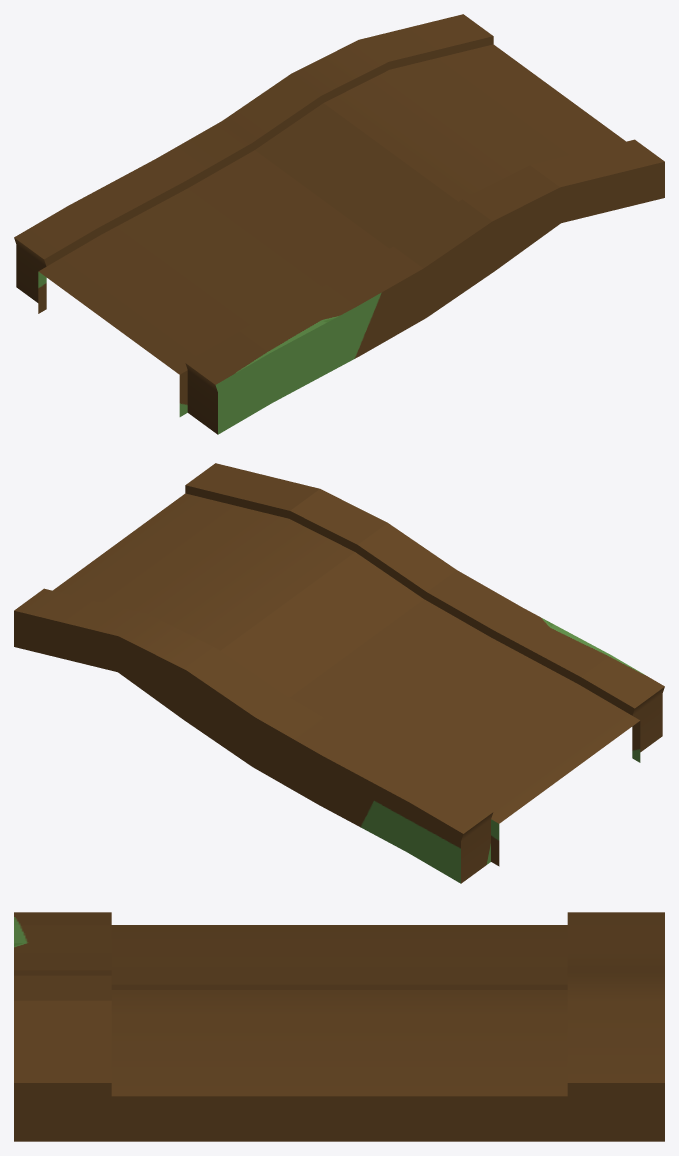
The model's file is bridge.fbx.
3 views of the same model, one above another, from view 1: azimuth 30°, elevation 25°; view 2: azimuth 150°, elevation 25°; view 3: azimuth 270°, elevation 25° (orthographic). The views are drawn at different scales.
Visible parts, largest first — view 1: bridge; view 2: bridge; view 3: bridge.
Boxes of the visible parts, x1,y1,x2,y2 form: bridge: (14, 14, 664, 434); bridge: (14, 463, 664, 883); bridge: (14, 912, 664, 1141).
Bounding box in the file's own units: 7.19 × 2.52 × 5.51.
